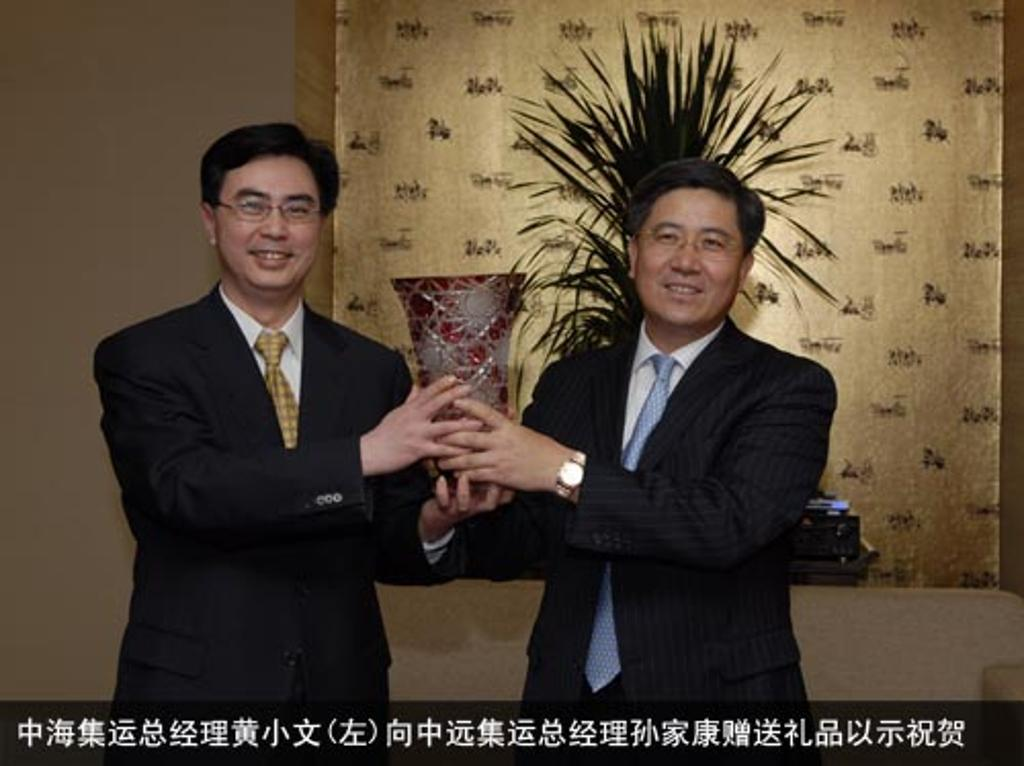face: (640, 186, 740, 322), (222, 156, 320, 288)
